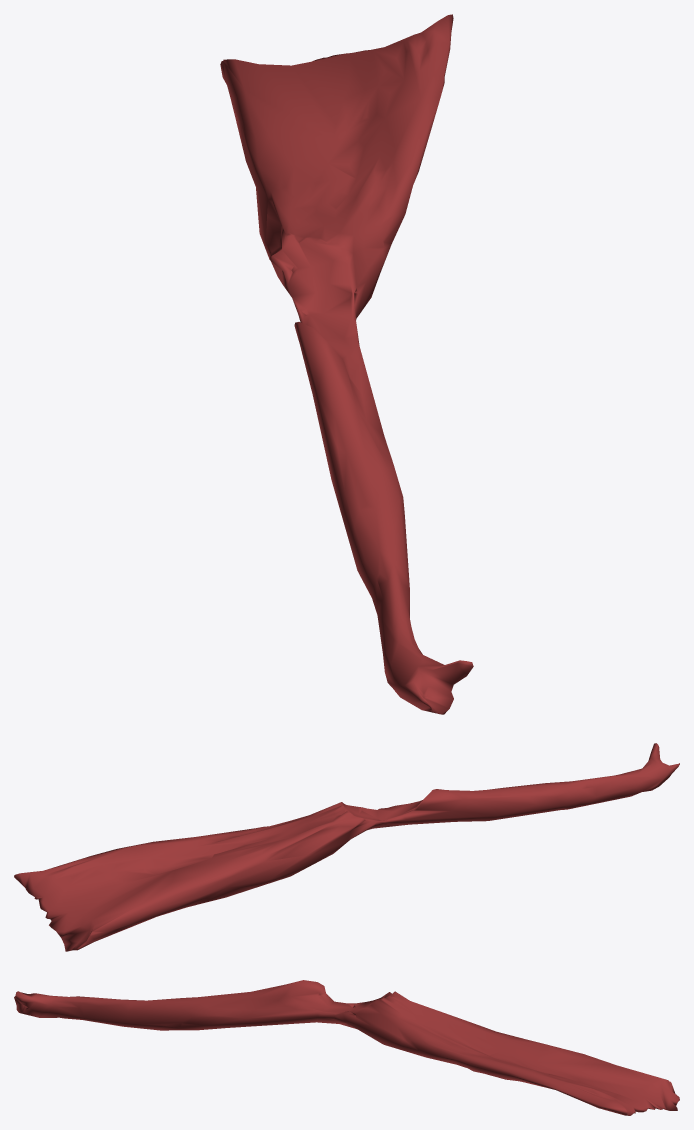
The model's file is abductor-digiti-minimi-of-foot-r.glb.
3 renders of one model, top to bottom at view 1: azimuth 30°, elevation 25°; view 2: azimuth 150°, elevation 25°; view 3: azimuth 270°, elevation 25°, orthographic. The views are drawn at different scales.
Parts seen in each view (by area): view 1: Abductor digiti minimi of foot.r; view 2: Abductor digiti minimi of foot.r; view 3: Abductor digiti minimi of foot.r.
Part boxes in pixels (x1,y1,x2,y2): Abductor digiti minimi of foot.r: (220,14,473,714); Abductor digiti minimi of foot.r: (14,743,679,951); Abductor digiti minimi of foot.r: (14,980,679,1115).
Bounding box in the file's own units: 0.071 × 0.0165 × 0.1274.
